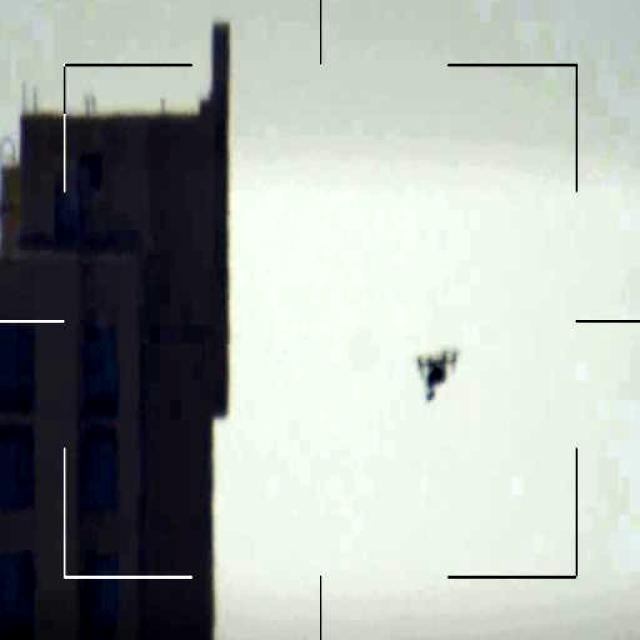bird: (412, 342, 465, 406)
